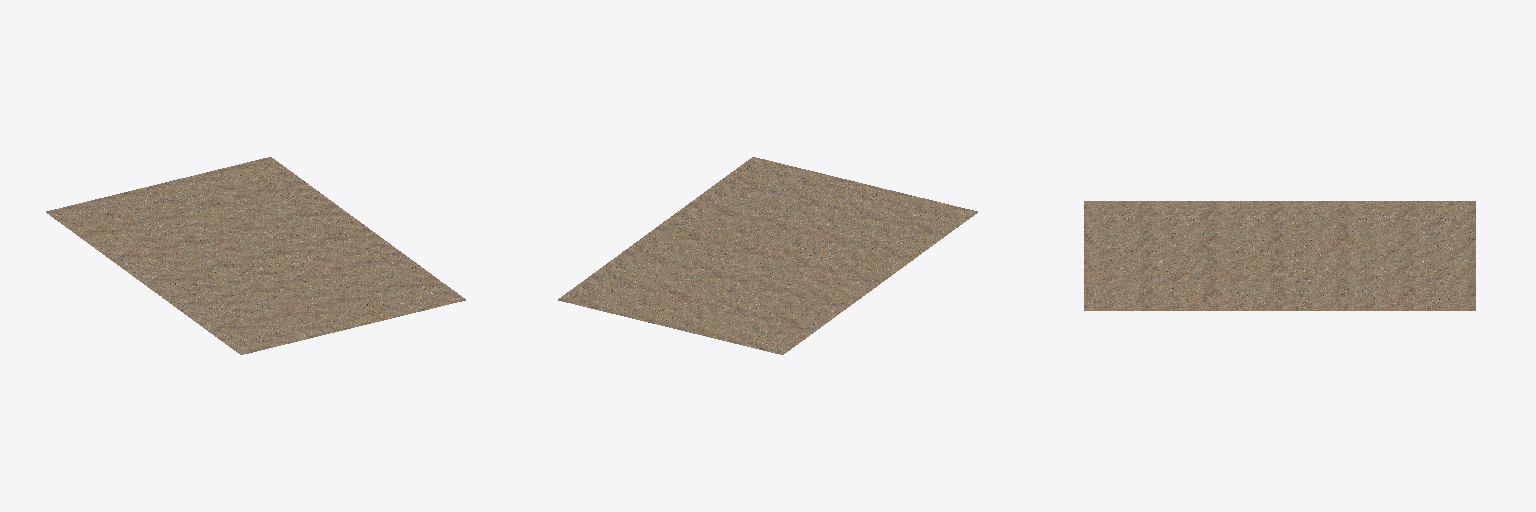
The picture shows the model from 3 angles: view 1: azimuth 30°, elevation 25°; view 2: azimuth 150°, elevation 25°; view 3: azimuth 270°, elevation 25°; orthographic projection.
Visible parts, largest first — view 1: Plane.023_Plane.027, Plane.016_Plane.020, Plane.004_Plane.007, Plane.007_Plane.011, Plane.010_Plane.014, Plane.002_Plane.005, Plane.021_Plane.025, Plane.011_Plane.015, Plane.020_Plane.024, Plane.013_Plane.017, Plane.005_Plane.009, Plane_Plane.001 (+12 smaller); view 2: Plane.014_Plane.018, Plane.007_Plane.011, Plane.020_Plane.024, Plane.004_Plane.007, Plane.022_Plane.026, Plane.023_Plane.027, Plane.017_Plane.021, Plane.001_Plane.004, Plane.008_Plane.012, Plane_Plane.001, Plane.016_Plane.020, Plane.009_Plane.013 (+12 smaller); view 3: Plane.023_Plane.027, Plane.015_Plane.019, Plane.021_Plane.025, Plane.007_Plane.011, Plane.005_Plane.009, Plane.002_Plane.005, Plane.009_Plane.013, Plane.018_Plane.022, Plane_Plane.001, Plane.006_Plane.010, Plane.004_Plane.007, Plane.012_Plane.016 (+12 smaller).
Part boxes in pixels (bbox=[...]): Plane.023_Plane.027: bbox=[46, 198, 133, 235]; Plane.016_Plane.020: bbox=[201, 256, 288, 293]; Plane.004_Plane.007: bbox=[111, 246, 199, 283]; Plane.007_Plane.011: bbox=[208, 318, 297, 354]; Plane.010_Plane.014: bbox=[168, 232, 255, 269]; Plane.002_Plane.005: bbox=[191, 194, 278, 231]; Plane.021_Plane.025: bbox=[158, 170, 246, 207]; Plane.011_Plane.015: bbox=[233, 280, 321, 317]; Plane.020_Plane.024: bbox=[215, 157, 303, 193]; Plane.013_Plane.017: bbox=[346, 253, 434, 289]; Plane.005_Plane.009: bbox=[144, 270, 231, 307]; Plane_Plane.001: bbox=[79, 222, 166, 259]; Plane.014_Plane.018: bbox=[656, 204, 743, 241]; Plane.007_Plane.011: bbox=[890, 198, 977, 235]; Plane.020_Plane.024: bbox=[558, 276, 645, 313]; Plane.004_Plane.007: bbox=[792, 270, 880, 306]; Plane.022_Plane.026: bbox=[670, 304, 758, 340]; Plane.023_Plane.027: bbox=[726, 318, 815, 354]; Plane.017_Plane.021: bbox=[720, 157, 808, 193]; Plane.001_Plane.004: bbox=[702, 280, 790, 316]; Plane.008_Plane.012: bbox=[623, 228, 711, 265]; Plane_Plane.001: bbox=[759, 294, 847, 330]; Plane.016_Plane.020: bbox=[769, 232, 856, 268]; Plane.009_Plane.013: bbox=[679, 242, 767, 279]; Plane.023_Plane.027: bbox=[1410, 201, 1475, 228]; Plane.015_Plane.019: bbox=[1214, 256, 1279, 283]; Plane.021_Plane.025: bbox=[1410, 256, 1475, 283]; Plane.007_Plane.011: bbox=[1084, 201, 1149, 228]; Plane.005_Plane.009: bbox=[1214, 201, 1279, 228]; Plane.002_Plane.005: bbox=[1345, 256, 1410, 283]; Plane.009_Plane.013: bbox=[1279, 256, 1344, 283]; Plane.018_Plane.022: bbox=[1084, 256, 1149, 283]; Plane_Plane.001: bbox=[1345, 201, 1410, 228]; Plane.006_Plane.010: bbox=[1149, 201, 1214, 228]; Plane.004_Plane.007: bbox=[1280, 201, 1344, 228]; Plane.012_Plane.016: bbox=[1148, 256, 1213, 283].
Bounding box in the file's own units: 238 × 0 × 358.
Materials: 1 (1 with a texture image).